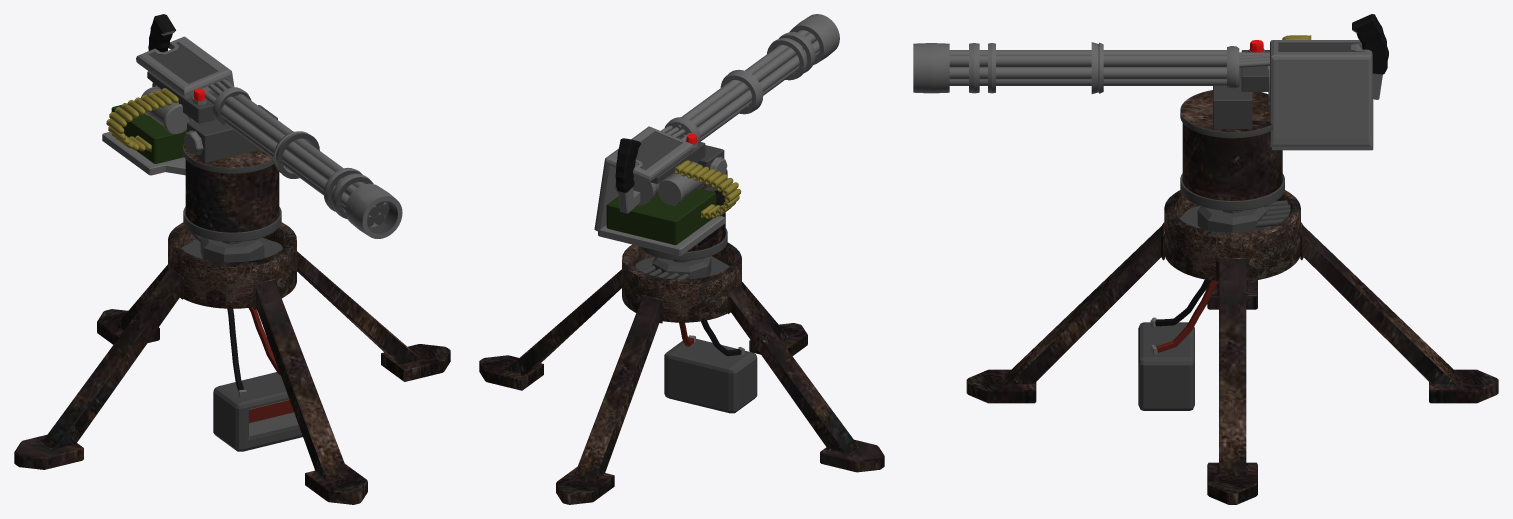
The model's file is turret-4.fbx.
3 renders of one model, left to right at view 1: azimuth 30°, elevation 25°; view 2: azimuth 150°, elevation 25°; view 3: azimuth 270°, elevation 25°, orthographic. The views are drawn at different scales.
Visible parts, largest first — view 1: turret, bullet; view 2: turret, bullet; view 3: turret, bullet.
Part boxes in pixels (box(x1,y1,x2,y2)): turret: box(14, 14, 450, 504); bullet: box(102, 88, 277, 175); turret: box(479, 14, 884, 504); bullet: box(598, 145, 741, 255); turret: box(913, 14, 1498, 504); bullet: box(1213, 35, 1373, 150).
Bounding box in the file's own units: 682 × 529 × 751.
9 materials, 1 textured.
